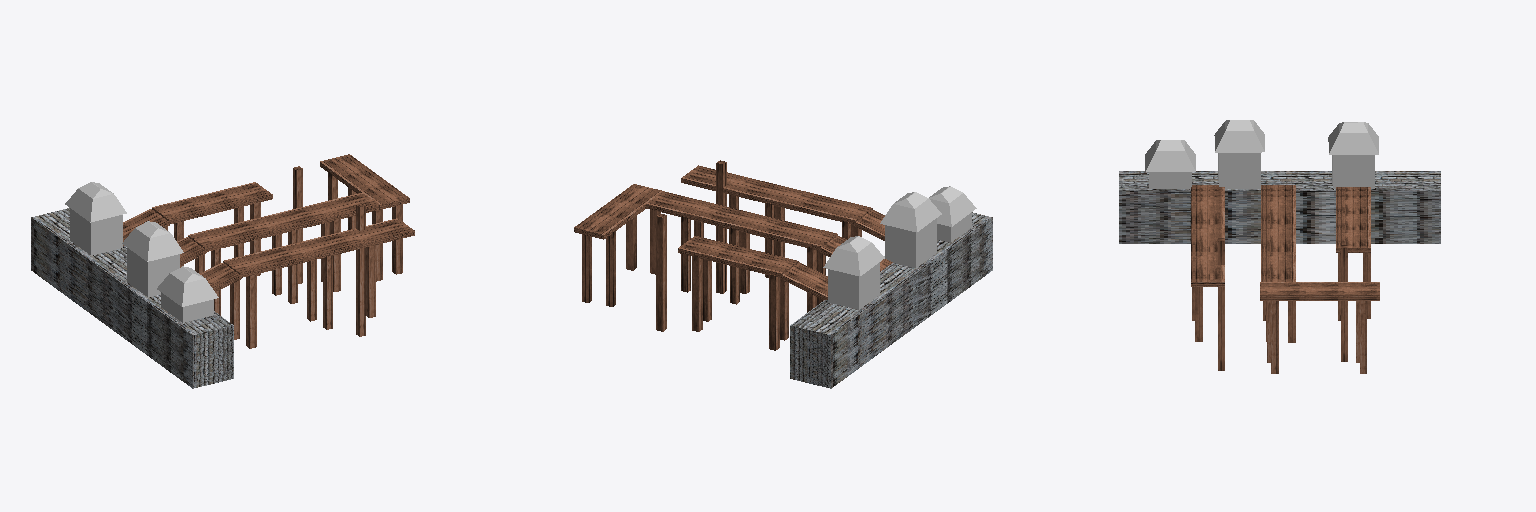
3 views of the same model, side by side, from view 1: azimuth 30°, elevation 25°; view 2: azimuth 150°, elevation 25°; view 3: azimuth 270°, elevation 25° (orthographic).
Visible parts, largest first — view 1: Cube, Cube.021_Cube.023, Cube.007_Cube.006, Cube.012_Cube.013, Cube.026_Cube.029, Plane.031_Plane.032, Plane.001, Plane.000, Plane.032_Plane.033, Plane.003, Cube.017_Cube.019, Plane.002 (+7 smaller); view 2: Cube, Cube.007_Cube.006, Cube.021_Cube.023, Cube.012_Cube.013, Cube.026_Cube.029, Plane.000, Plane.031_Plane.032, Plane.001, Plane.032_Plane.033, Cube.015_Cube.017, Plane.003, Cube.001_Cube.010 (+11 smaller); view 3: Cube, Cube.007_Cube.006, Cube.021_Cube.023, Cube.026_Cube.029, Cube.012_Cube.013, Plane.000, Plane.001, Plane.032_Plane.033, Plane.003, Plane.031_Plane.032, Cube.017_Cube.019, Plane.002 (+2 smaller).
Part boxes in pixels (bbox=[...]): Cube: bbox=[31, 208, 233, 388]; Cube.021_Cube.023: bbox=[223, 218, 414, 277]; Cube.007_Cube.006: bbox=[188, 193, 378, 251]; Cube.012_Cube.013: bbox=[152, 182, 272, 224]; Cube.026_Cube.029: bbox=[320, 154, 409, 209]; Plane.031_Plane.032: bbox=[70, 208, 122, 255]; Plane.001: bbox=[122, 221, 183, 261]; Plane.000: bbox=[127, 248, 179, 297]; Plane.032_Plane.033: bbox=[65, 182, 126, 222]; Plane.003: bbox=[157, 266, 218, 306]; Cube.017_Cube.019: bbox=[356, 203, 365, 336]; Plane.002: bbox=[161, 292, 213, 322]; Cube: bbox=[790, 212, 992, 388]; Cube.007_Cube.006: bbox=[646, 191, 837, 250]; Cube.021_Cube.023: bbox=[681, 165, 872, 224]; Cube.012_Cube.013: bbox=[678, 236, 798, 277]; Cube.026_Cube.029: bbox=[574, 184, 662, 239]; Plane.000: bbox=[885, 218, 936, 267]; Plane.031_Plane.032: bbox=[828, 262, 879, 309]; Plane.001: bbox=[880, 192, 941, 231]; Plane.032_Plane.033: bbox=[823, 236, 884, 275]; Cube.015_Cube.017: bbox=[656, 213, 666, 331]; Plane.003: bbox=[929, 186, 976, 226]; Cube.001_Cube.010: bbox=[781, 262, 827, 299]; Cube: bbox=[1119, 171, 1440, 243]; Cube.007_Cube.006: bbox=[1261, 196, 1295, 281]; Cube.021_Cube.023: bbox=[1191, 196, 1224, 286]; Cube.026_Cube.029: bbox=[1260, 282, 1379, 300]; Cube.012_Cube.013: bbox=[1336, 197, 1370, 252]; Plane.000: bbox=[1218, 153, 1260, 188]; Plane.001: bbox=[1214, 120, 1264, 152]; Plane.032_Plane.033: bbox=[1328, 122, 1378, 154]; Plane.003: bbox=[1145, 140, 1195, 171]; Plane.031_Plane.032: bbox=[1332, 155, 1374, 188]; Cube.017_Cube.019: bbox=[1218, 238, 1224, 370]; Plane.002: bbox=[1149, 172, 1191, 188].
Bounding box in the file's own units: 0.7382 × 0.3724 × 0.7171.
4 materials, 2 textured.